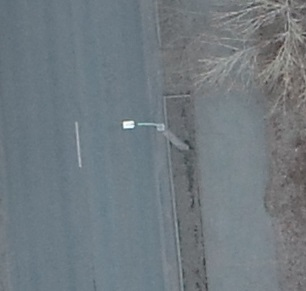opora: (122, 118, 190, 153)
